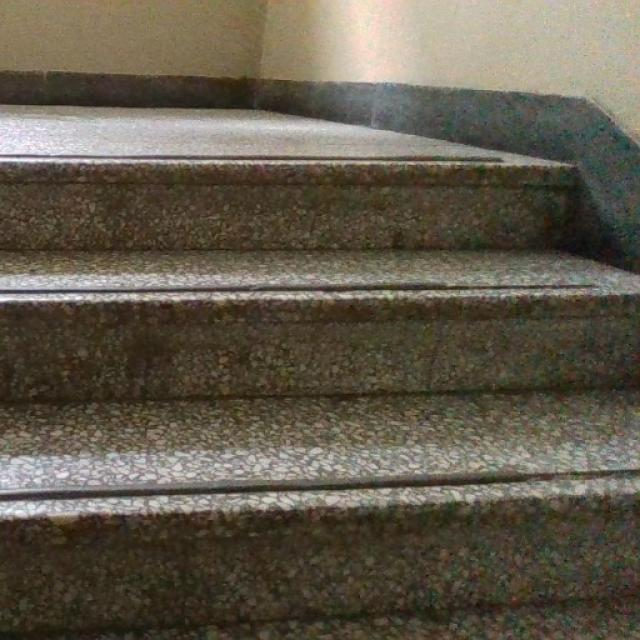Stairs: (0, 81, 639, 639)
